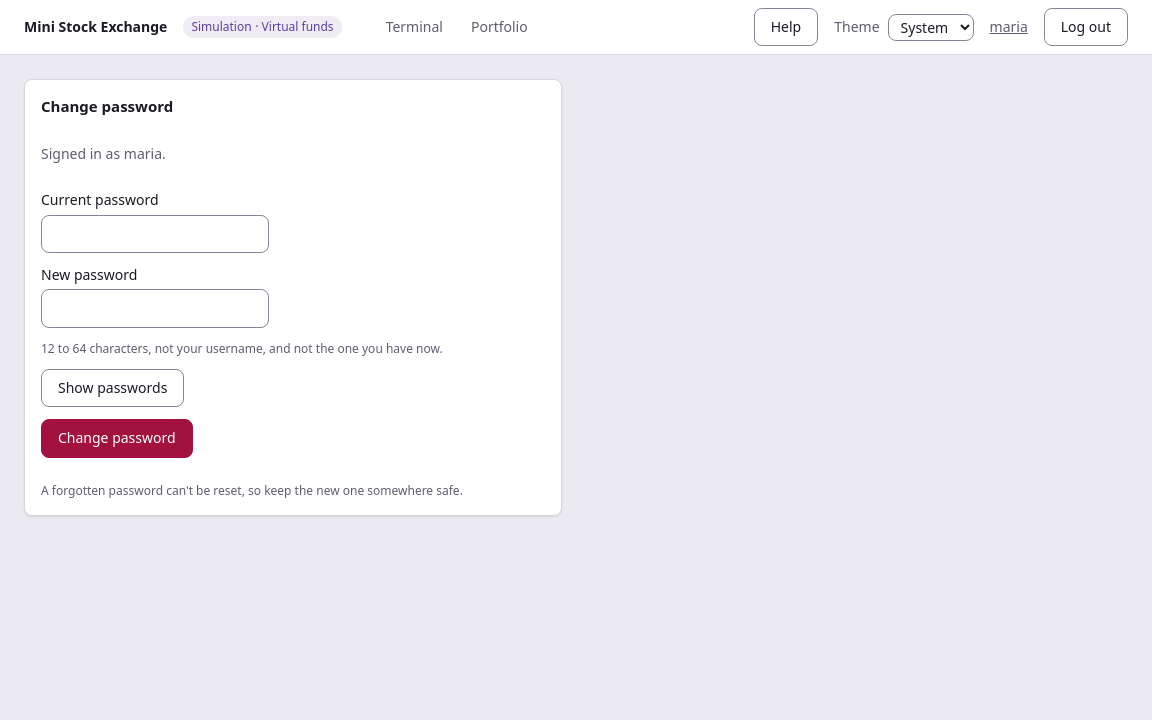
Test: the account page › changes the password, clears both fields, and says other sessions are signed out
This screenshot has width=1152, height=720.
expect the text "Signed in as maria." is shown: met, box x1=41 y1=144 x2=166 y2=163
Type "the old password" into the password field labelled "Current password" at point(155, 234), box x1=41 y1=215 x2=269 y2=253
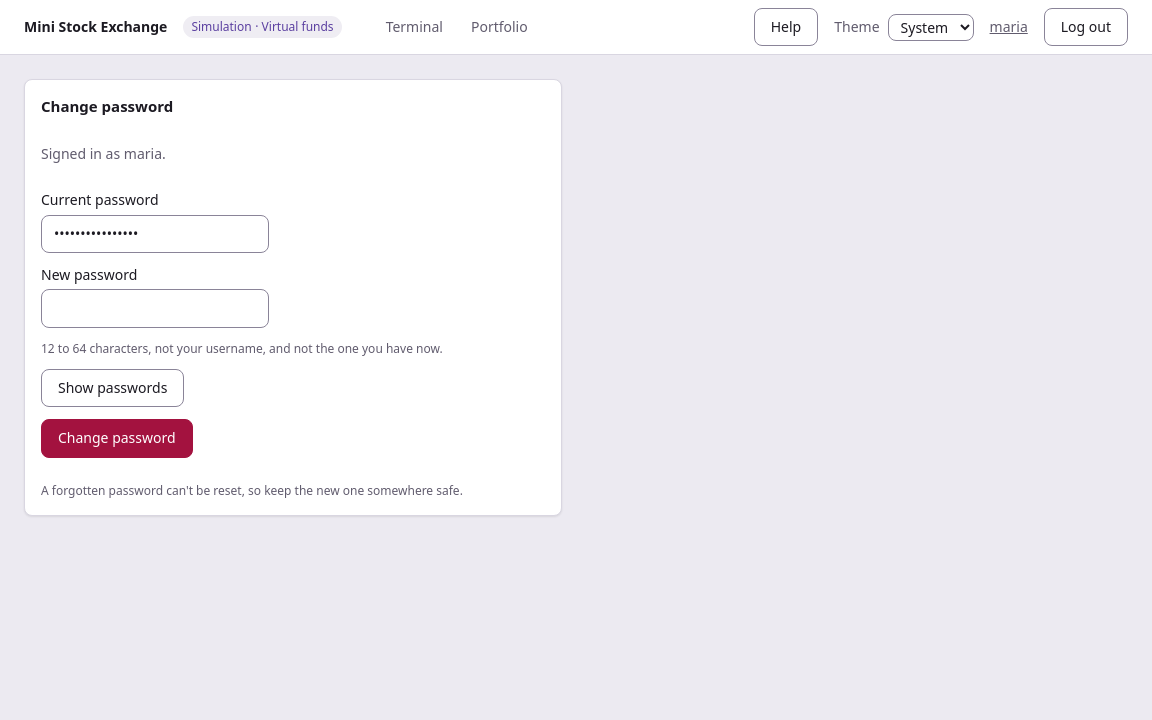
Type "a brand new password" into the password field labelled "New password" at point(155, 308), box x1=41 y1=289 x2=269 y2=328
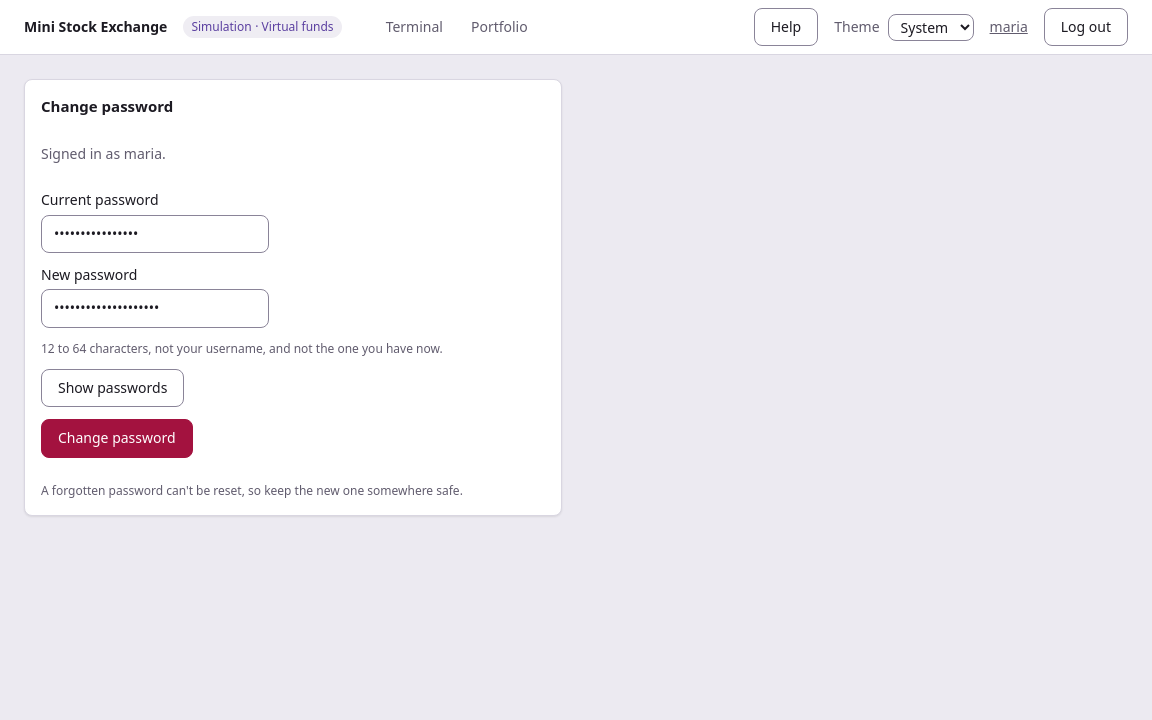
Note: Show reveals both, so they can be checked before saving.
Click the button "Show passwords" at point(113, 388), box x1=41 y1=369 x2=184 y2=407
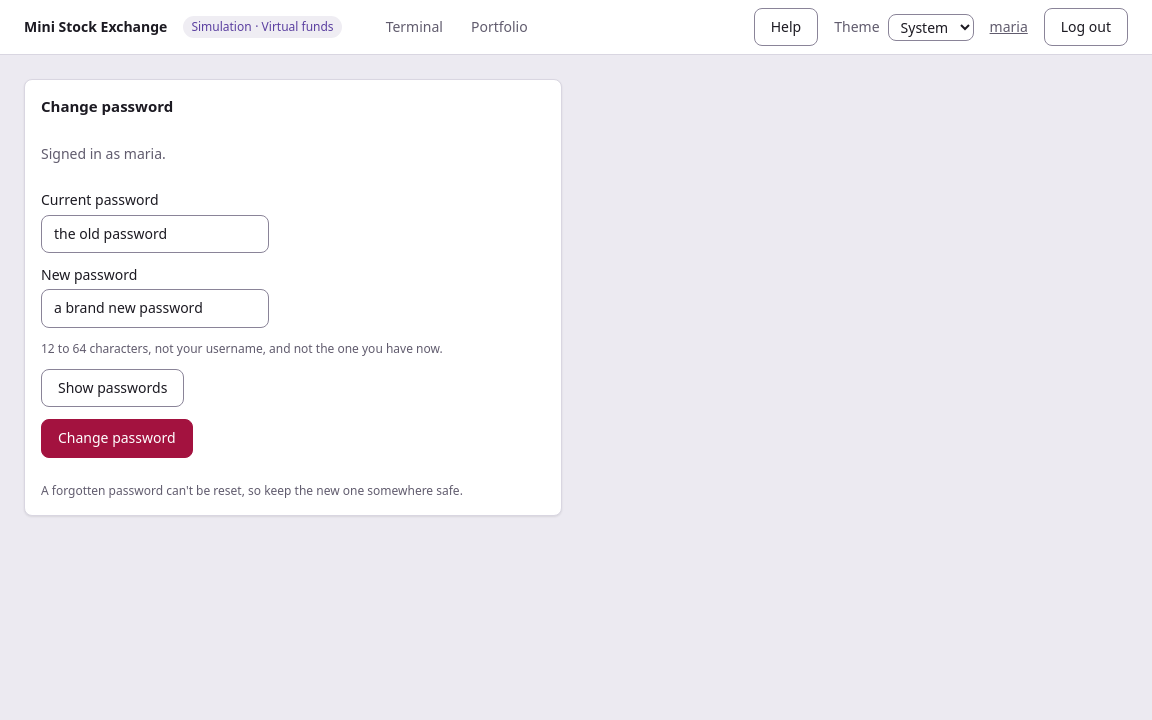
expect the field labelled "Current password" shows its text: met, box x1=41 y1=215 x2=269 y2=253
expect the field labelled "New password" shows its text: met, box x1=41 y1=289 x2=269 y2=328
Click the button "Change password" at point(117, 438), box x1=41 y1=419 x2=193 y2=458
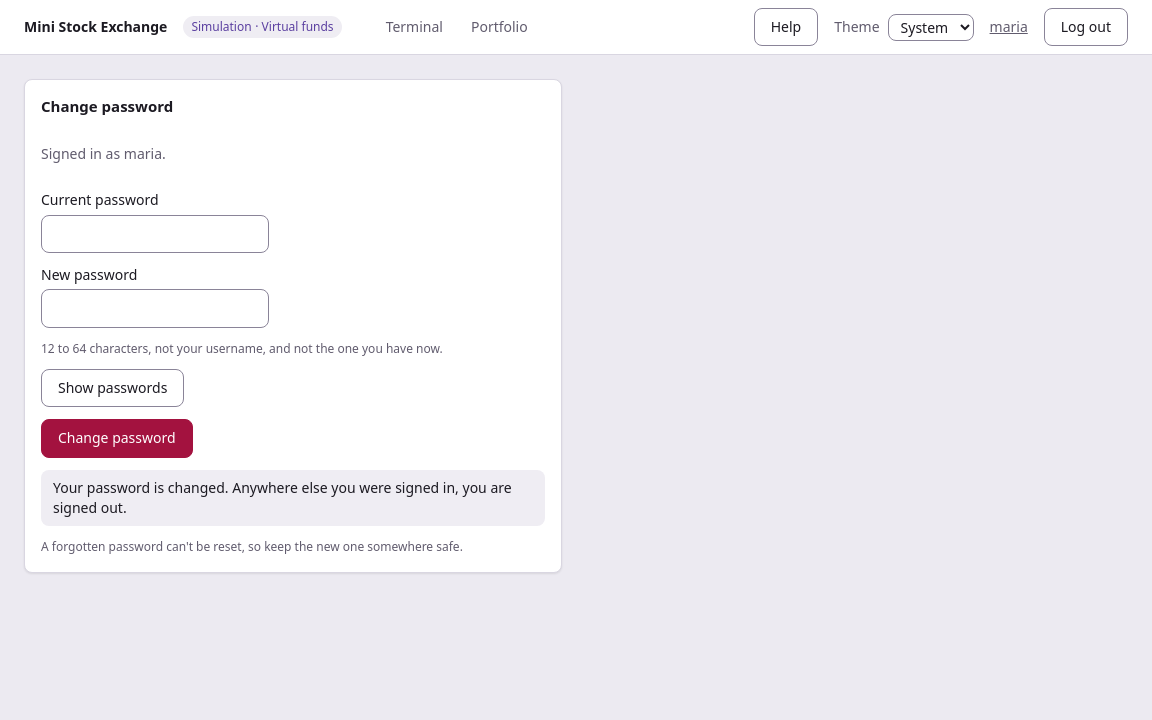
expect the text "Your password is changed. Anywhere else you were signed in, you are signed out." is shown: met, box x1=41 y1=470 x2=545 y2=526
expect the password field labelled "Current password" is empty: met, box x1=41 y1=215 x2=269 y2=253
expect the password field labelled "New password" is empty: met, box x1=41 y1=289 x2=269 y2=328
